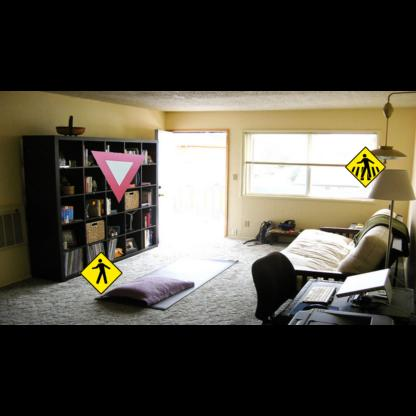A-32a: (80, 251, 122, 295)
A-32b: (345, 146, 386, 188)
R-2: (91, 151, 146, 203)
